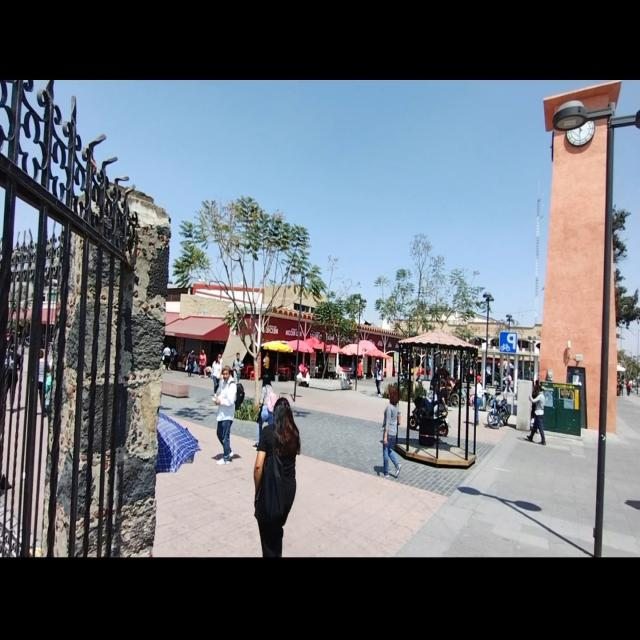adult: (254, 396, 300, 558), (212, 366, 241, 464), (378, 387, 400, 479), (255, 373, 277, 447), (526, 384, 546, 444), (434, 378, 448, 418)
